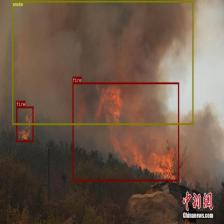fire: (72, 82, 179, 181), (16, 106, 33, 142)
smoke: (12, 0, 193, 124)
